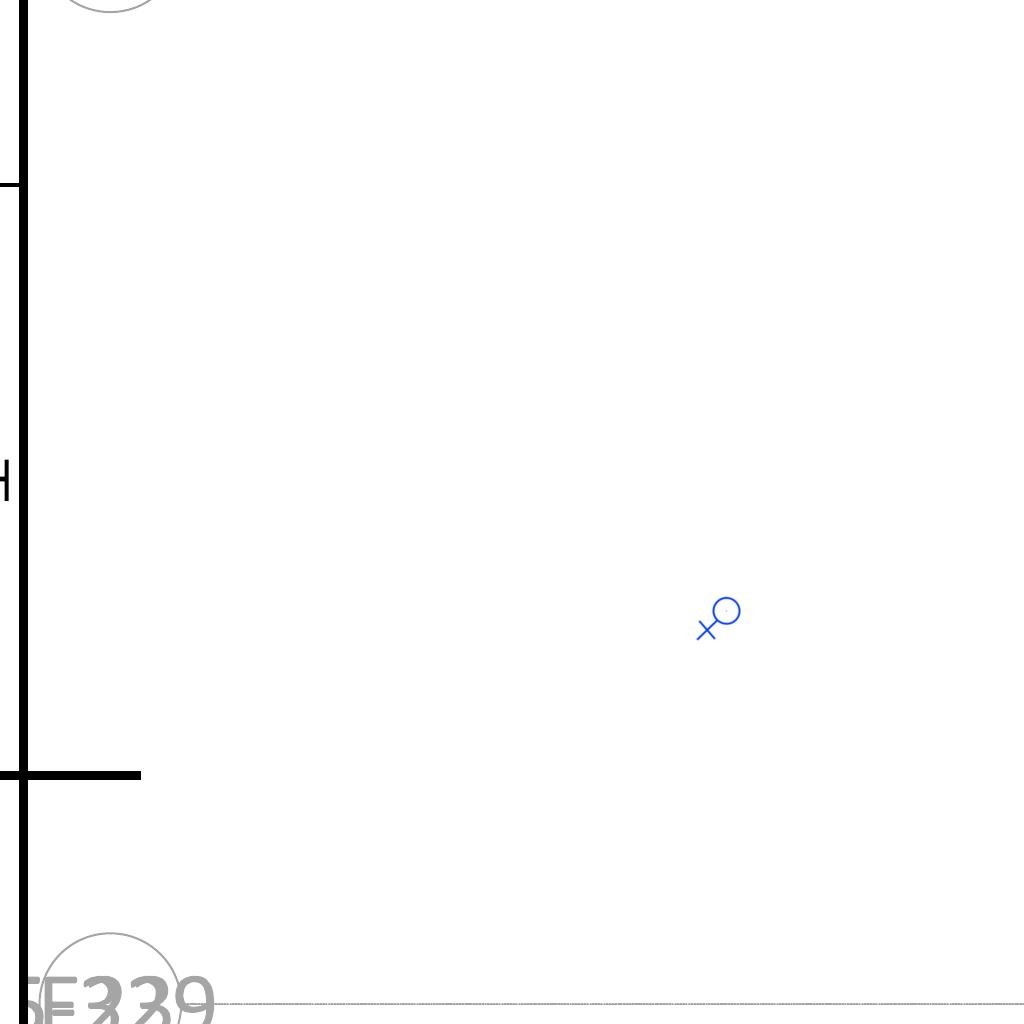Elektroanschluss_allgemein_230V_Geraeteanschlussdose_230V: (696, 596, 745, 643)
